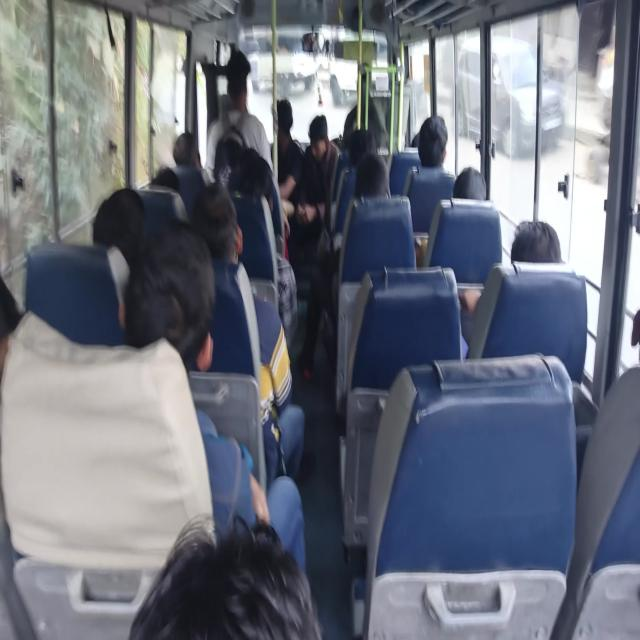person: (136, 514, 333, 640), (139, 245, 224, 406), (508, 222, 583, 278), (198, 205, 249, 280), (0, 275, 29, 392), (105, 187, 155, 247), (223, 48, 256, 118), (232, 159, 272, 215), (356, 152, 393, 203), (271, 99, 301, 156), (456, 169, 490, 207), (350, 129, 388, 162), (426, 114, 448, 168), (171, 134, 206, 167), (151, 164, 186, 189), (314, 112, 333, 154), (412, 121, 432, 148), (236, 144, 262, 164)
